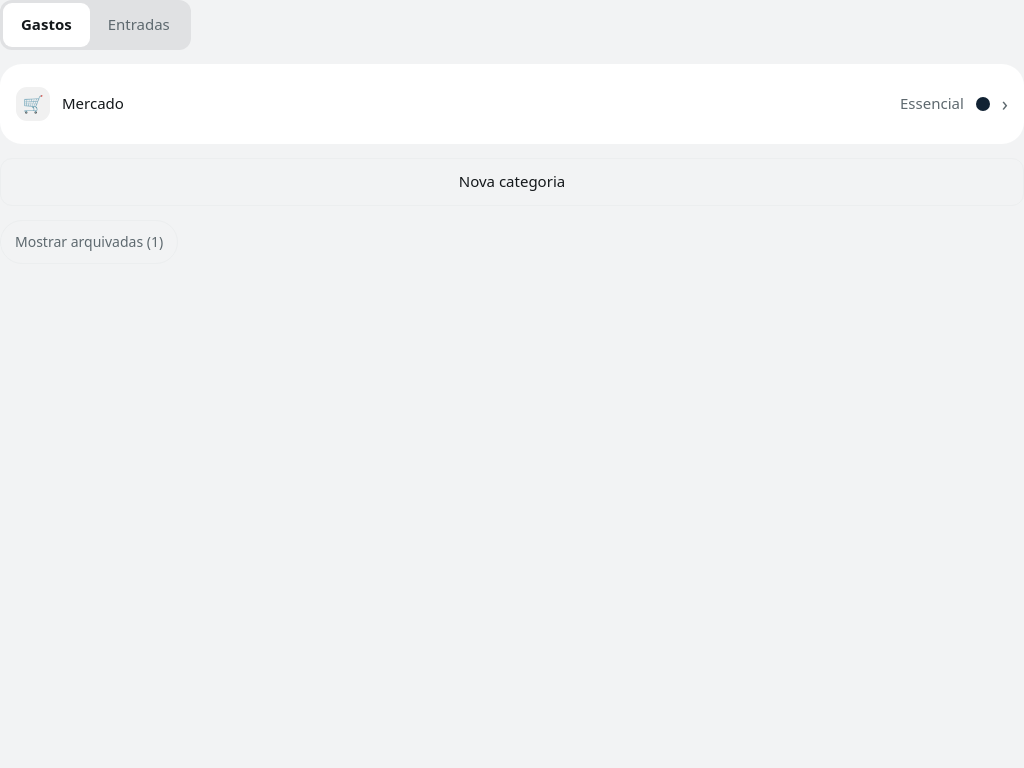
Scenario: Categories screen › archived categories are behind a toggle, and open to be restored
Check: the text "Restaurante" is not shown
Click the button "Mostrar arquivadas (1)" at (89, 242), box [0, 220, 178, 264]
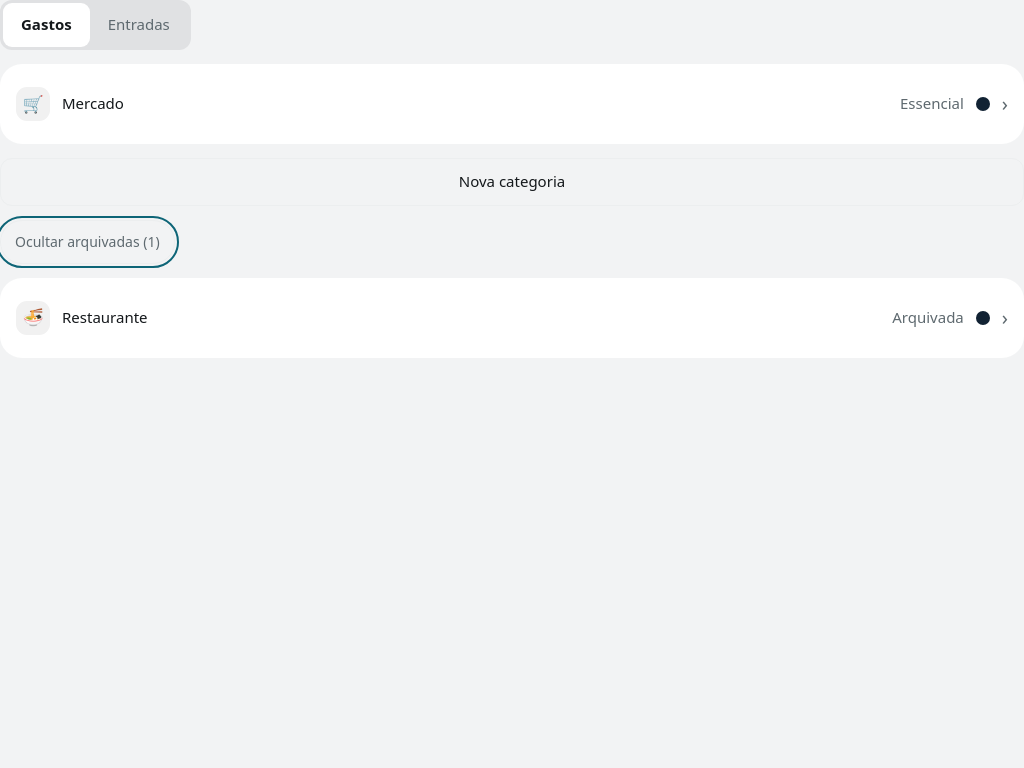
Click the button "🍜 Restaurante Arquivada ›" at (33, 318), box [16, 294, 1008, 342]
(page scrolled)
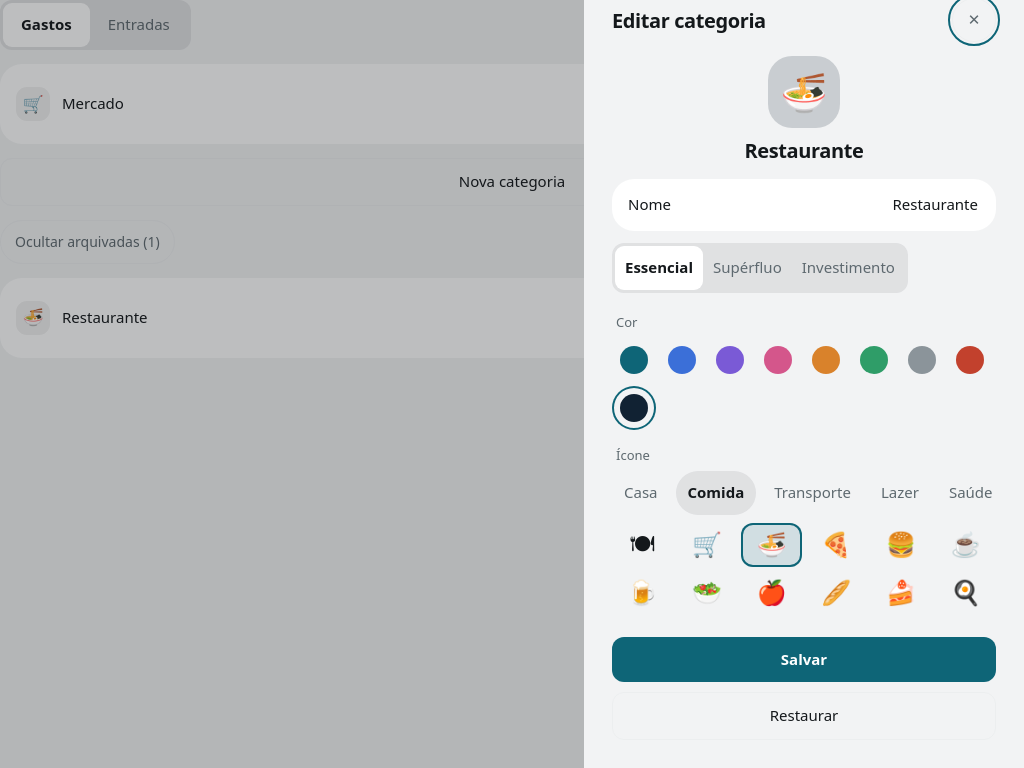
Check: the button "Restaurar" is shown, box [612, 692, 996, 740]
